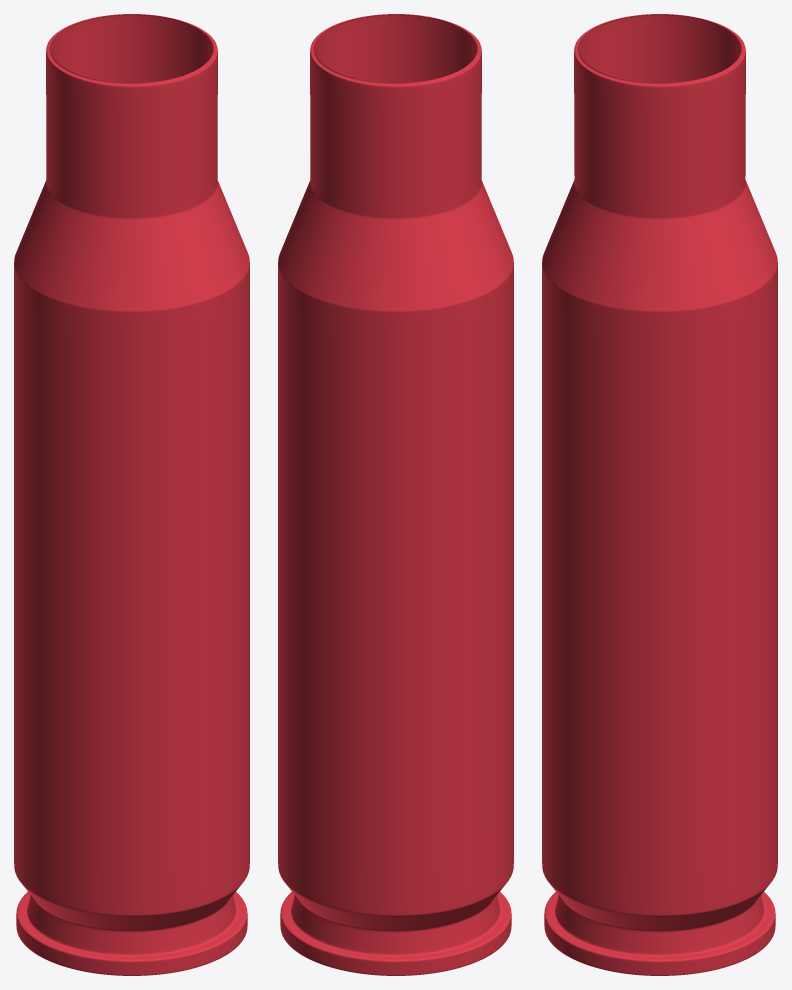
The model's file is 308_shell.fbx.
3 views of the same model, side by side, from view 1: azimuth 30°, elevation 25°; view 2: azimuth 150°, elevation 25°; view 3: azimuth 270°, elevation 25° (orthographic).
Parts seen in each view (by area): view 1: Cylinder; view 2: Cylinder; view 3: Cylinder.
Boxes of the visible parts, x1,y1,x2,y2 form: Cylinder: [14, 14, 249, 975]; Cylinder: [278, 14, 513, 975]; Cylinder: [542, 14, 777, 975].
Bounding box in the file's own units: 0.343 × 1.41 × 0.343.
